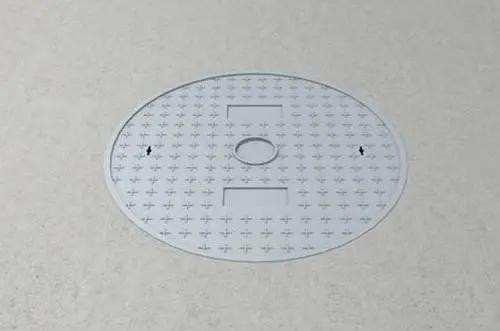wellcover: (96, 65, 420, 267)
